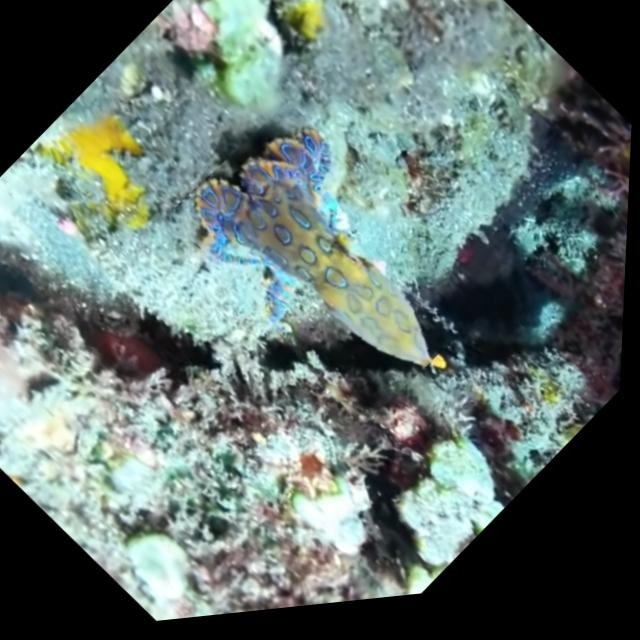blue_ringed_octopus: (154, 88, 500, 453)
